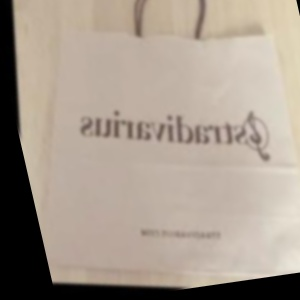stradivarius: (235, 10, 300, 123)
